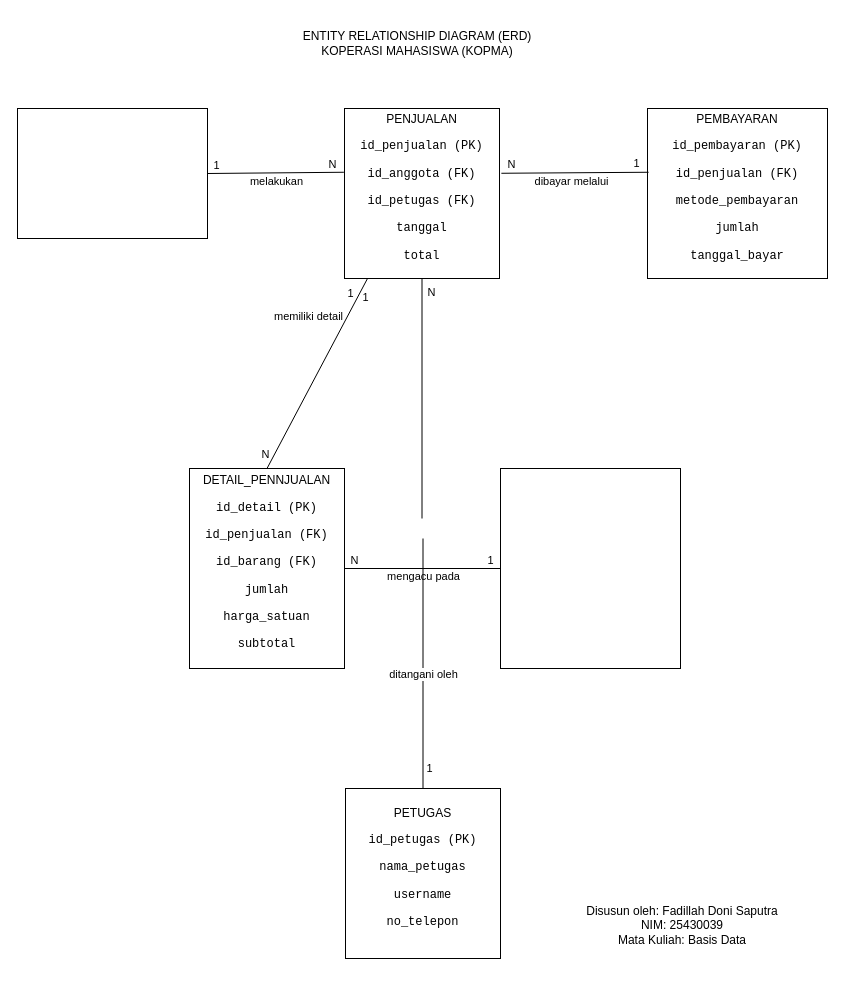
This 845x1006 diagram has some shape labels left out. Each missing label, with the box of its shape:
ANGGOTA id_anggota (PK) nama_anggota alamat no_telepon: (16, 108, 208, 238)
BARANG id_barang (PK) nama_barang harga stok satuan: (500, 468, 680, 668)
